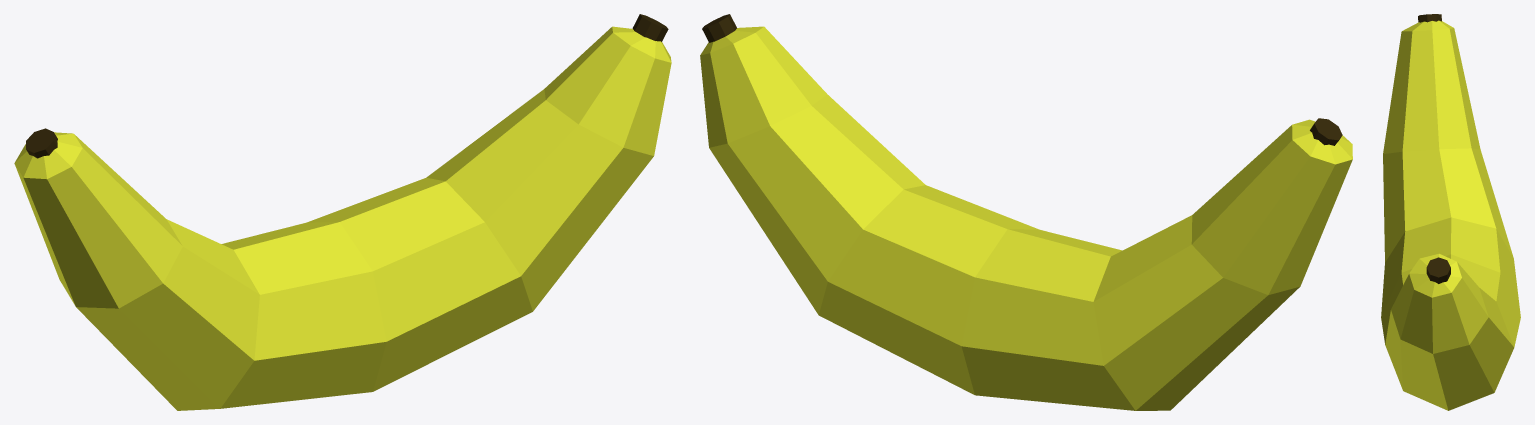
File: bannana.fbx
The picture shows the model from 3 angles, left to right: view 1: azimuth 30°, elevation 25°; view 2: azimuth 150°, elevation 25°; view 3: azimuth 270°, elevation 25°; orthographic projection. The views are drawn at different scales.
Parts seen in each view (by area): view 1: banana; view 2: banana; view 3: banana.
Part boxes in pixels (bbox=[...]): banana: bbox=[14, 14, 671, 410]; banana: bbox=[700, 14, 1352, 410]; banana: bbox=[1381, 14, 1520, 410].
Bounding box in the file's own units: 801 × 406 × 200.
